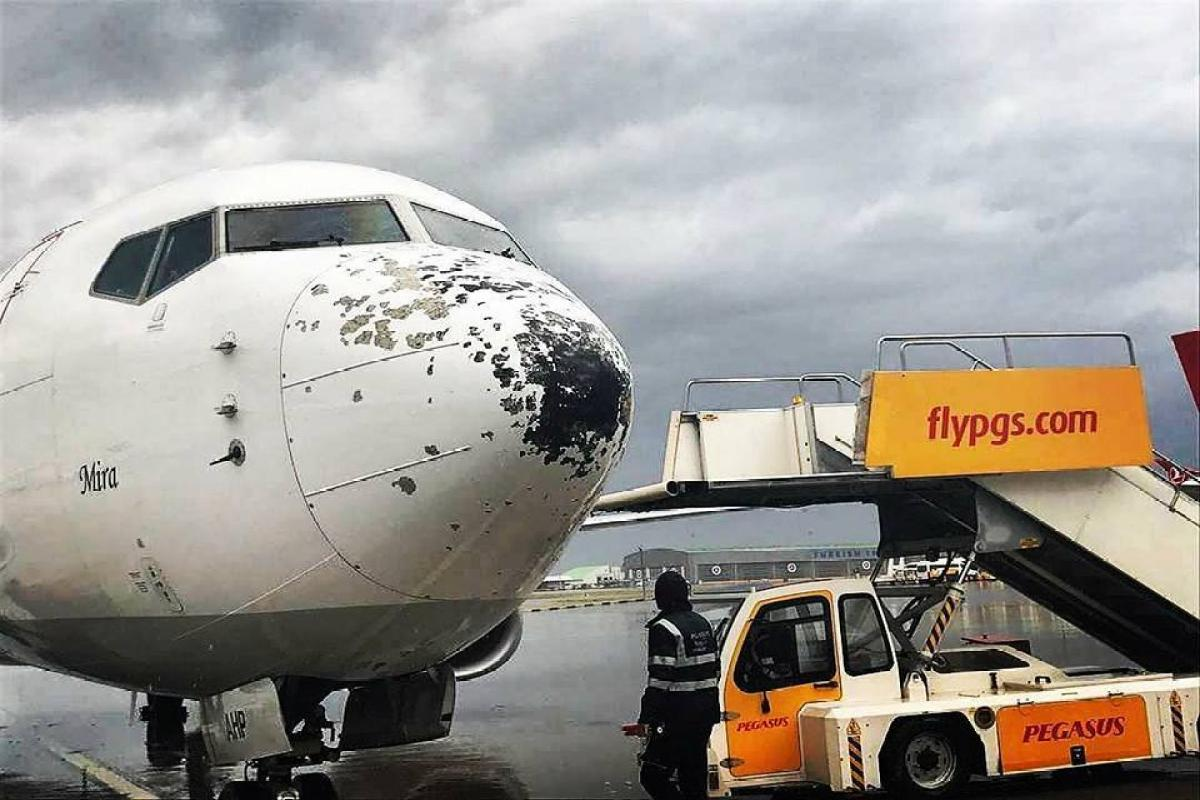Fuselage_damage: (241, 251, 651, 519)
